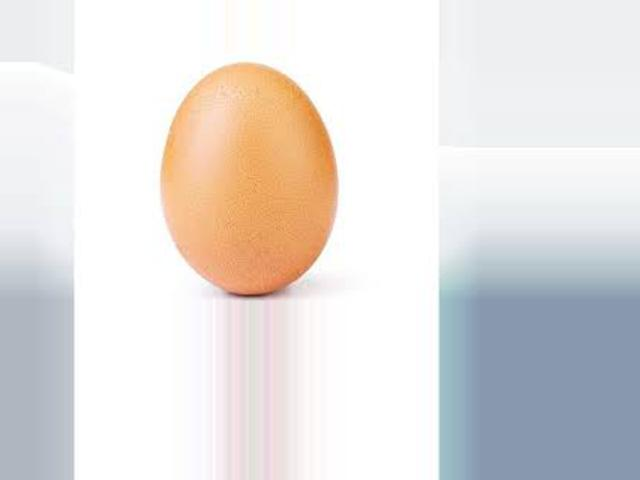egg: (160, 64, 338, 294)
